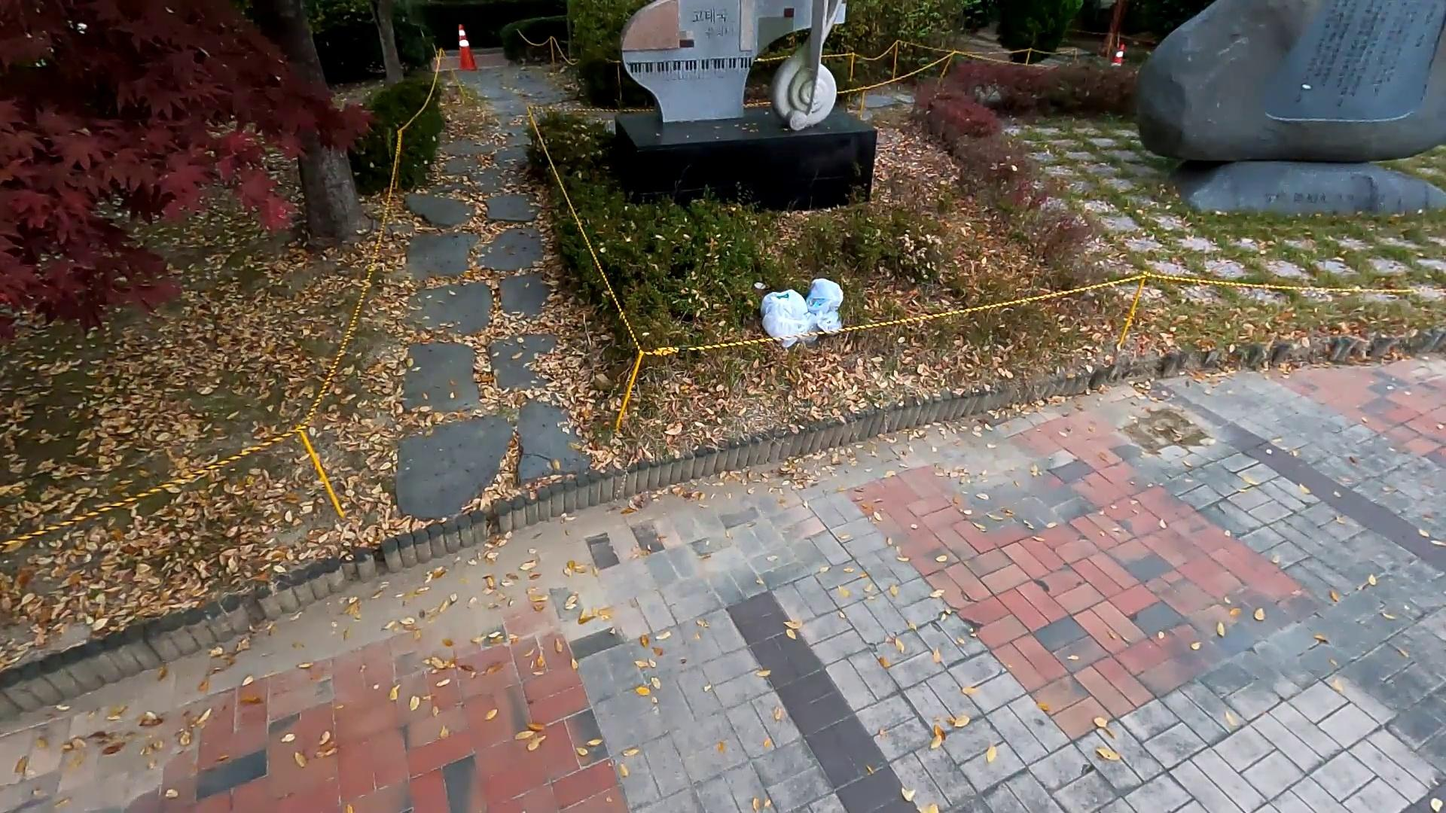trash: (797, 278, 844, 314), (759, 303, 798, 346), (762, 286, 808, 322), (785, 307, 816, 344), (814, 308, 844, 337)
